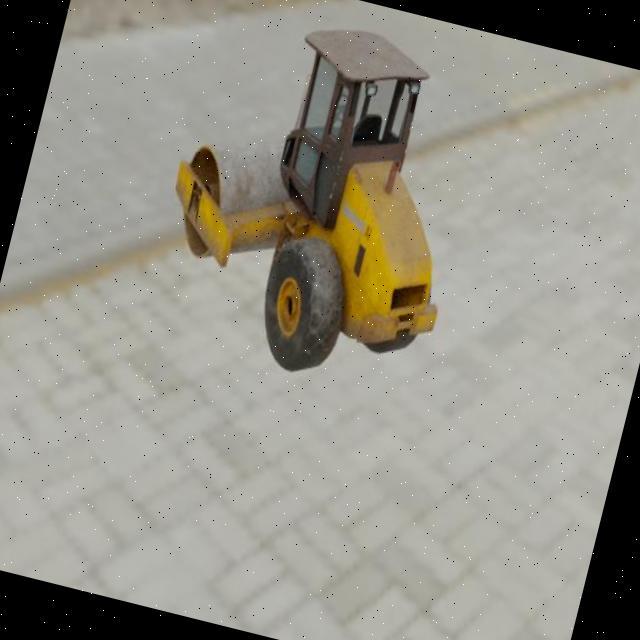Roller: (136, 0, 500, 403)
